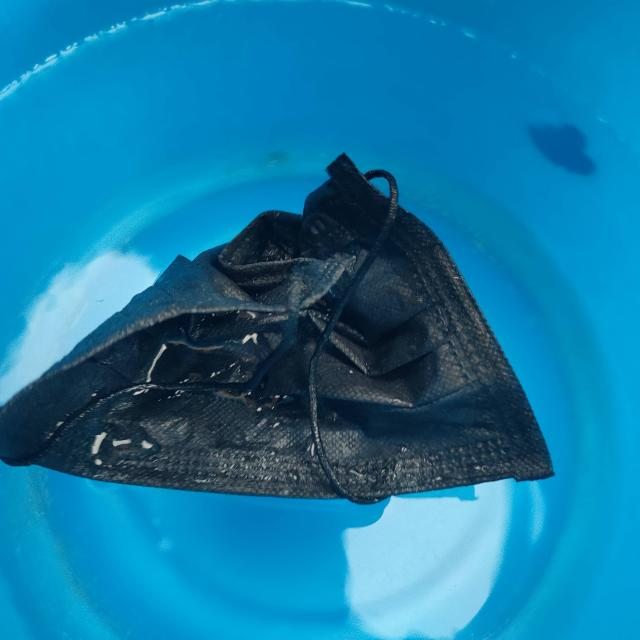mask: (17, 139, 555, 508)
